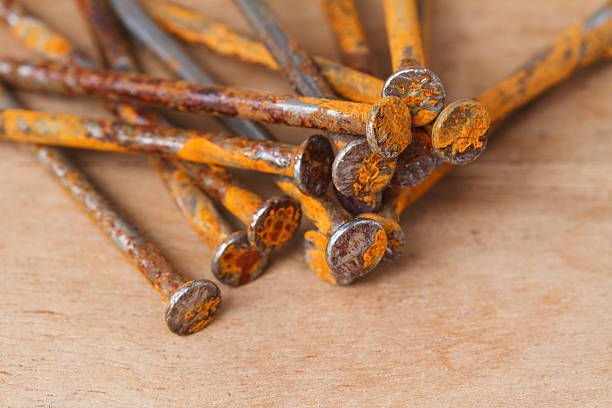rust: (44, 13, 490, 346), (504, 28, 607, 124)
